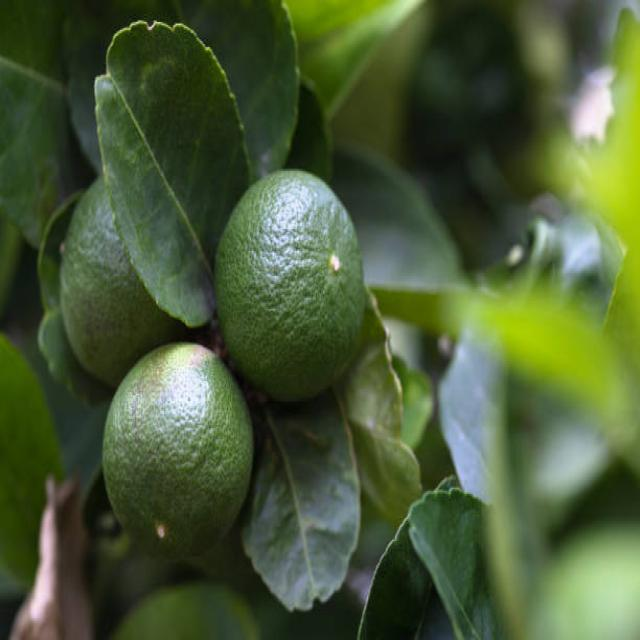Unripe: (211, 168, 365, 403), (100, 339, 254, 564)
